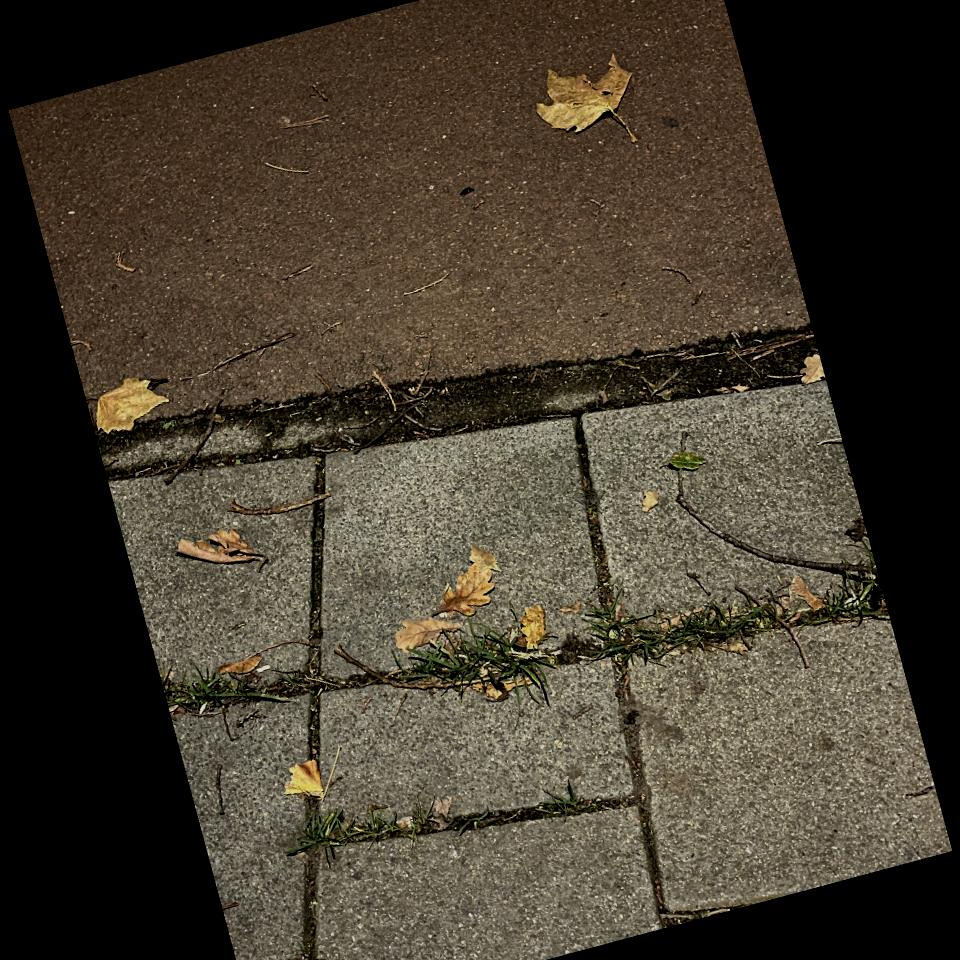weed: (380, 585, 861, 698), (159, 658, 272, 716)
